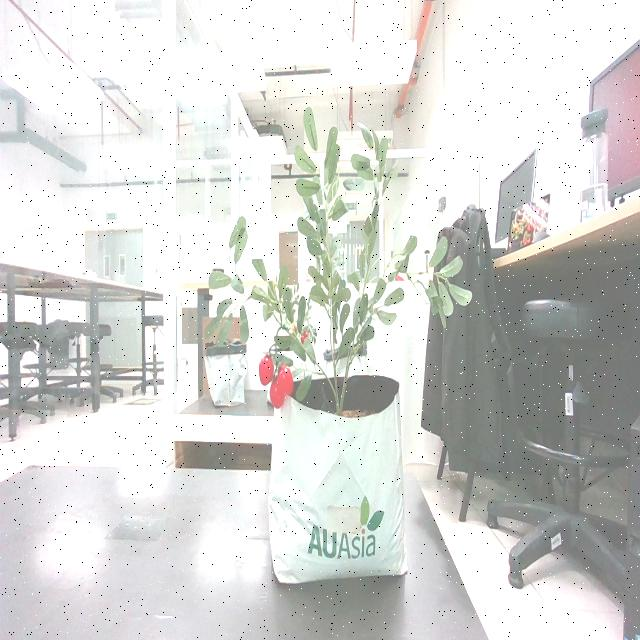Soilbag: (266, 376, 408, 588)
Tomato: (258, 355, 297, 410)
plant: (204, 124, 485, 418)
